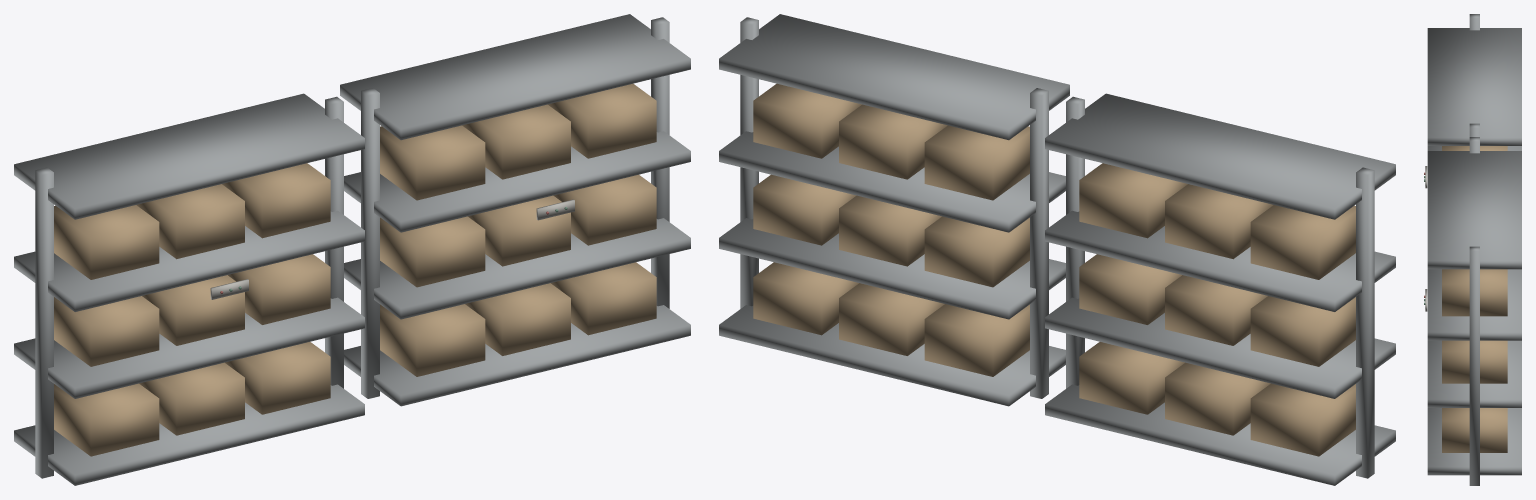
The model's file is print_drying_rack__cluster.glb.
The picture shows the model from 3 angles, left to right: view 1: azimuth 30°, elevation 25°; view 2: azimuth 150°, elevation 25°; view 3: azimuth 270°, elevation 25°; orthographic projection. The views are drawn at different scales.
Parts seen in each view (by area): view 1: world; view 2: world; view 3: world.
Part boxes in pixels (x1,y1,x2,y2): world: [14, 14, 690, 485]; world: [719, 14, 1395, 485]; world: [1424, 14, 1521, 485].
Bounding box in the file's own units: 4.76 × 2.2 × 0.831.
